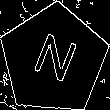N_S: (27, 29, 81, 90)
